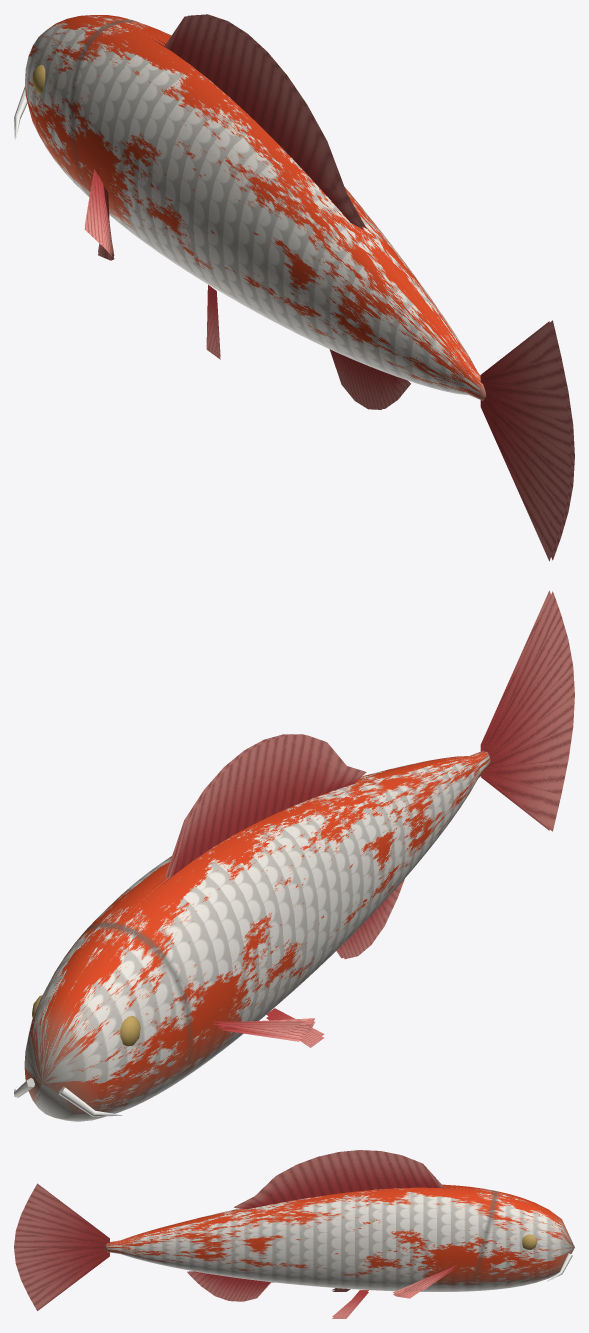
The model's file is HO_Fish_Koi.fbx.
3 views of the same model, one above another, from view 1: azimuth 30°, elevation 25°; view 2: azimuth 150°, elevation 25°; view 3: azimuth 270°, elevation 25° (orthographic). The views are drawn at different scales.
Visible parts, largest first — view 1: HO_Fish_Koi__Fish_Koi, HO_Fish_Koi__Fish_Fin_Red; view 2: HO_Fish_Koi__Fish_Koi, HO_Fish_Koi__Fish_Fin_Red; view 3: HO_Fish_Koi__Fish_Koi, HO_Fish_Koi__Fish_Fin_Red.
Boxes of the visible parts, x1=… form: HO_Fish_Koi__Fish_Koi: x1=14, y1=15, x2=485, y2=400; HO_Fish_Koi__Fish_Fin_Red: x1=84, y1=14, x2=574, y2=561; HO_Fish_Koi__Fish_Koi: x1=14, y1=750, x2=490, y2=1121; HO_Fish_Koi__Fish_Fin_Red: x1=154, y1=590, x2=574, y2=1047; HO_Fish_Koi__Fish_Koi: x1=104, y1=1184, x2=574, y2=1291; HO_Fish_Koi__Fish_Fin_Red: x1=14, y1=1150, x2=456, y2=1318.
Bounding box in the file's own units: 0.4729 × 0.6819 × 2.16.
